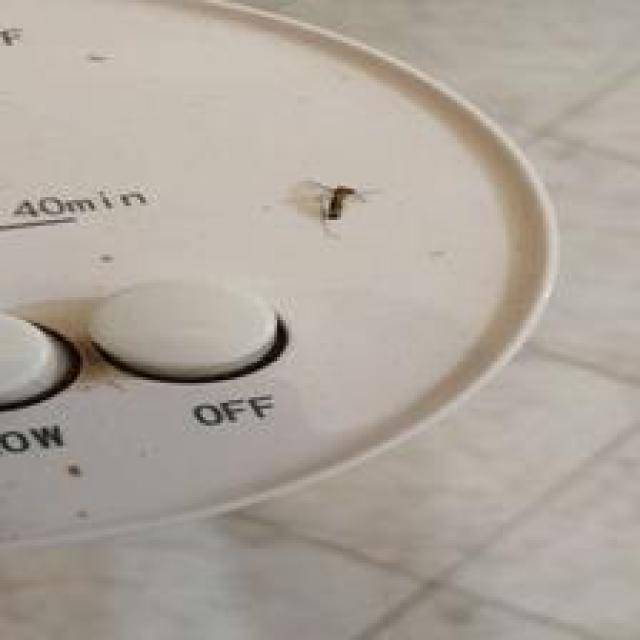Culex: (303, 177, 366, 223)
